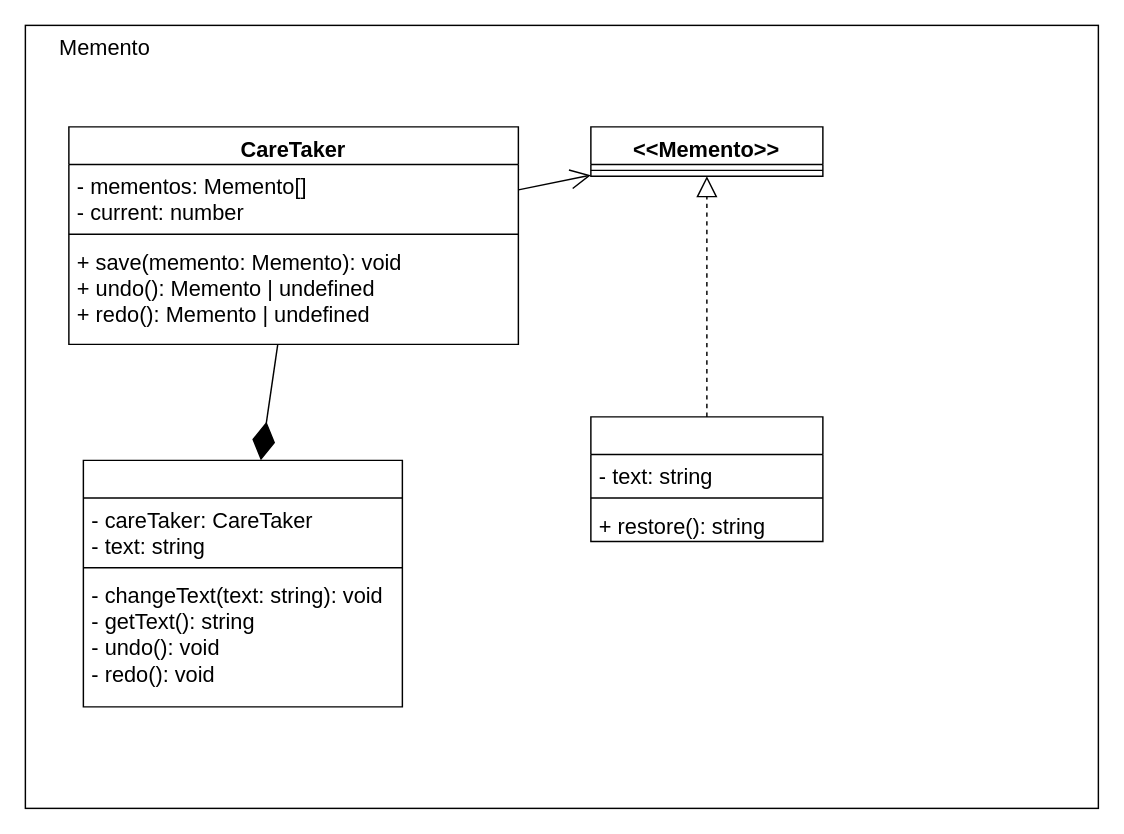
The diagram is 1124 pixels wide and 834 high, and some of its shapes have lost their labels. Each missing label, with the box of its shape:
TextEditor: (82, 459, 402, 707)
TextMemento: (589, 415, 823, 542)
